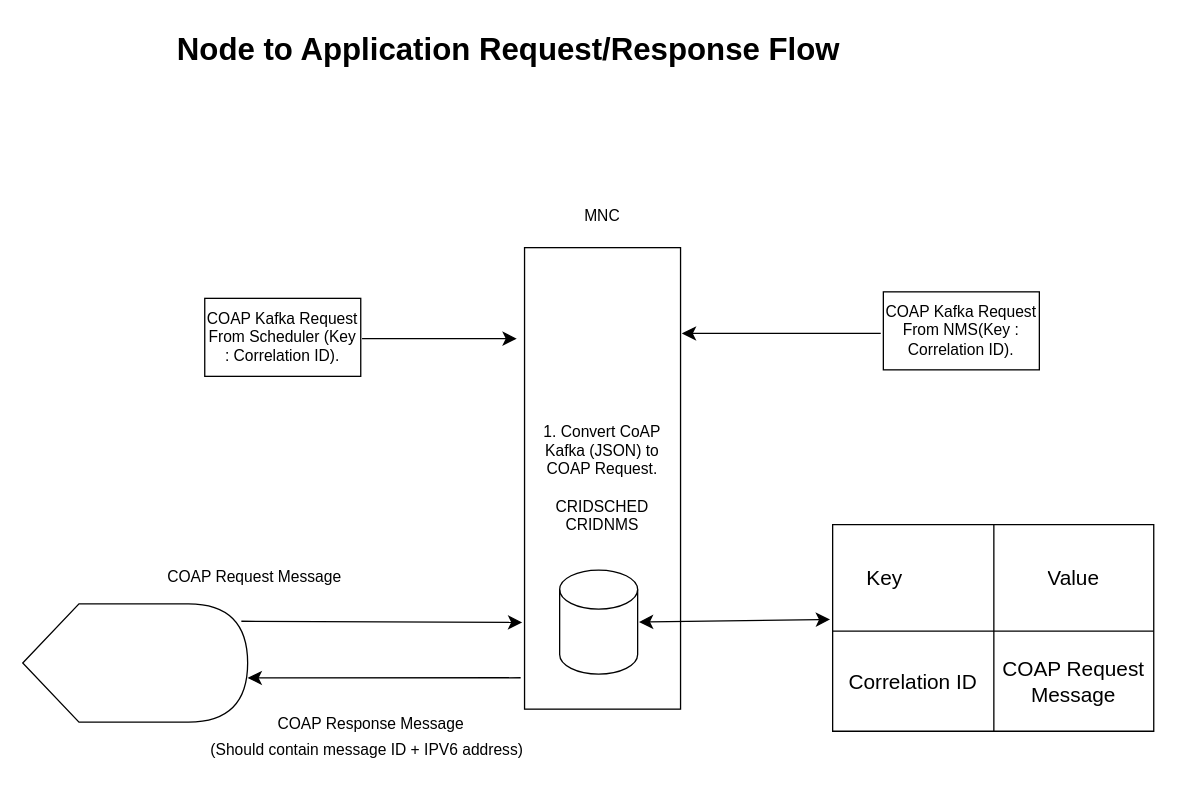
The diagram is 1177 pixels wide and 792 high, and some of its shapes have lost their labels. The centre of each missing label's shape, as x and y in pixels:
MNC Receive Registry: the point at 598,621
NODE: the point at 134,662
